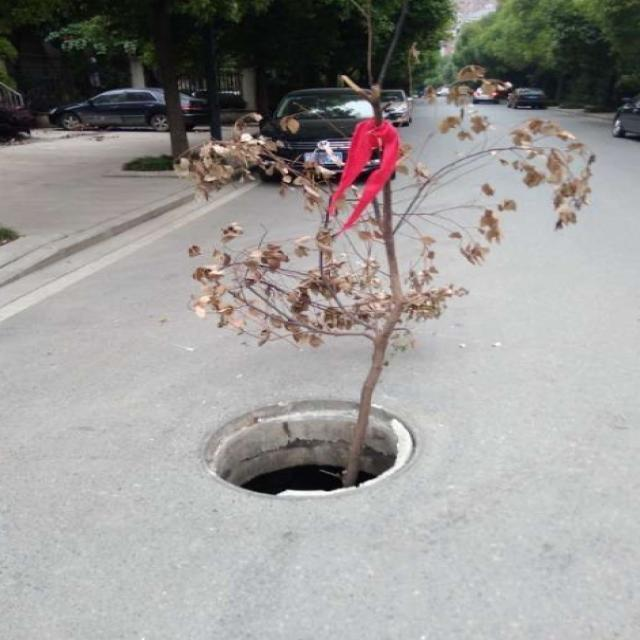Faulty: (198, 403, 432, 506)
